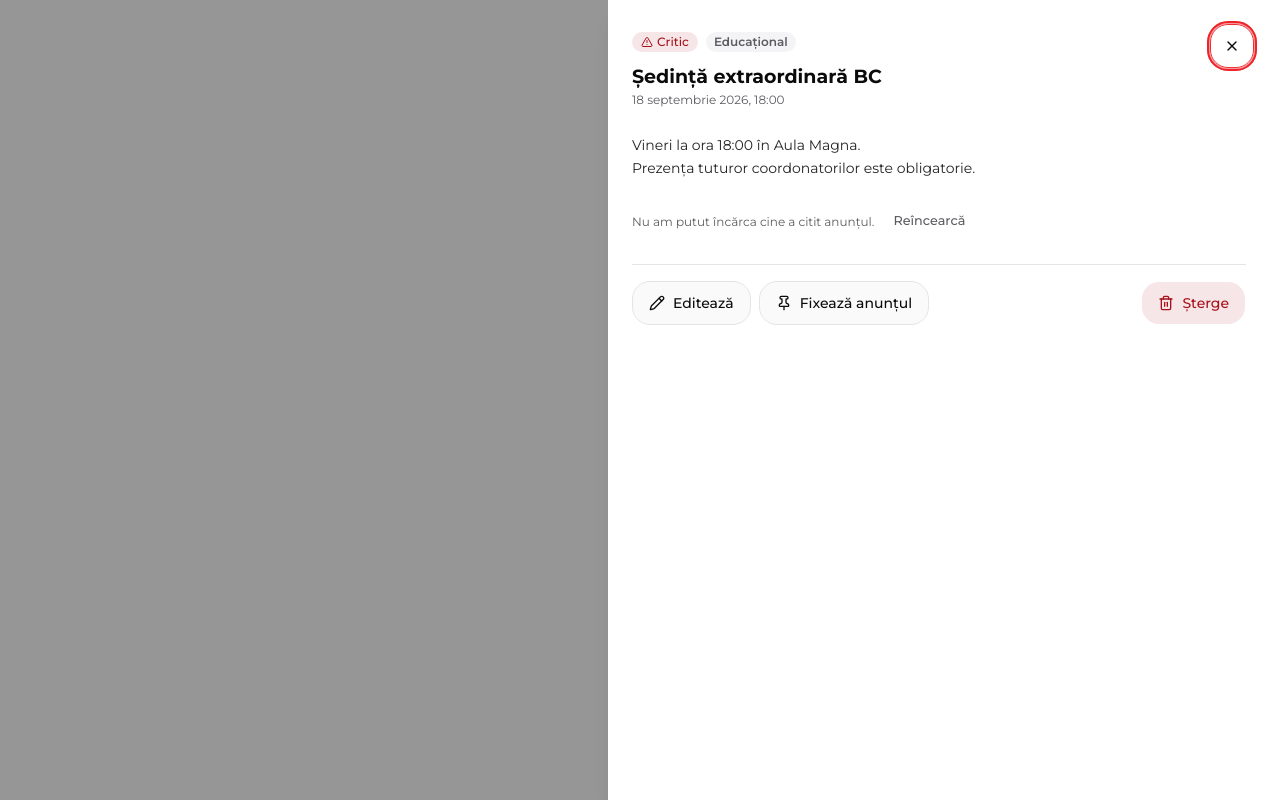
Test: AnnouncementDetailsSheet › pin and unpin (#857) › pins by sending { pinned: true } for the id and says so
Click the button "Fixează anunțul": (844, 303) [759,281,929,325]
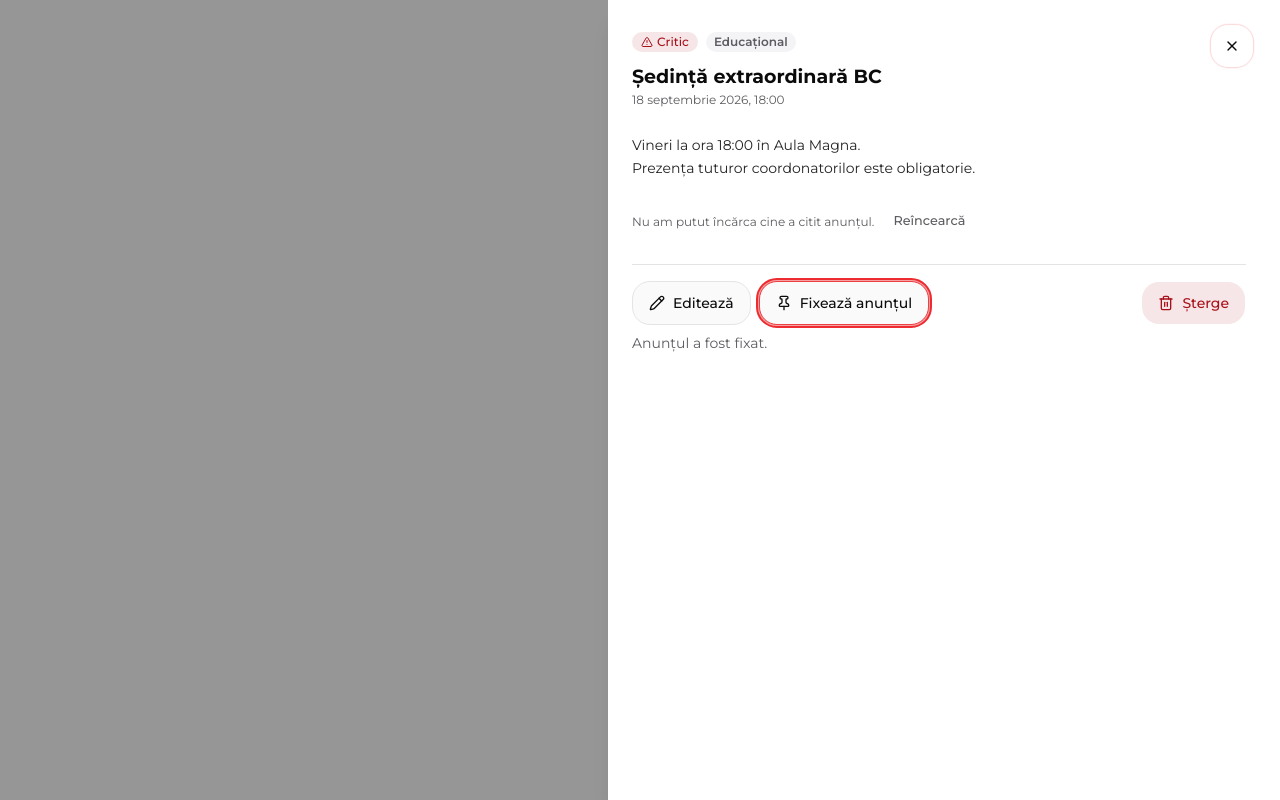
Now the message reads "Anunțul a fost fixat.", box [632,334,767,352]
